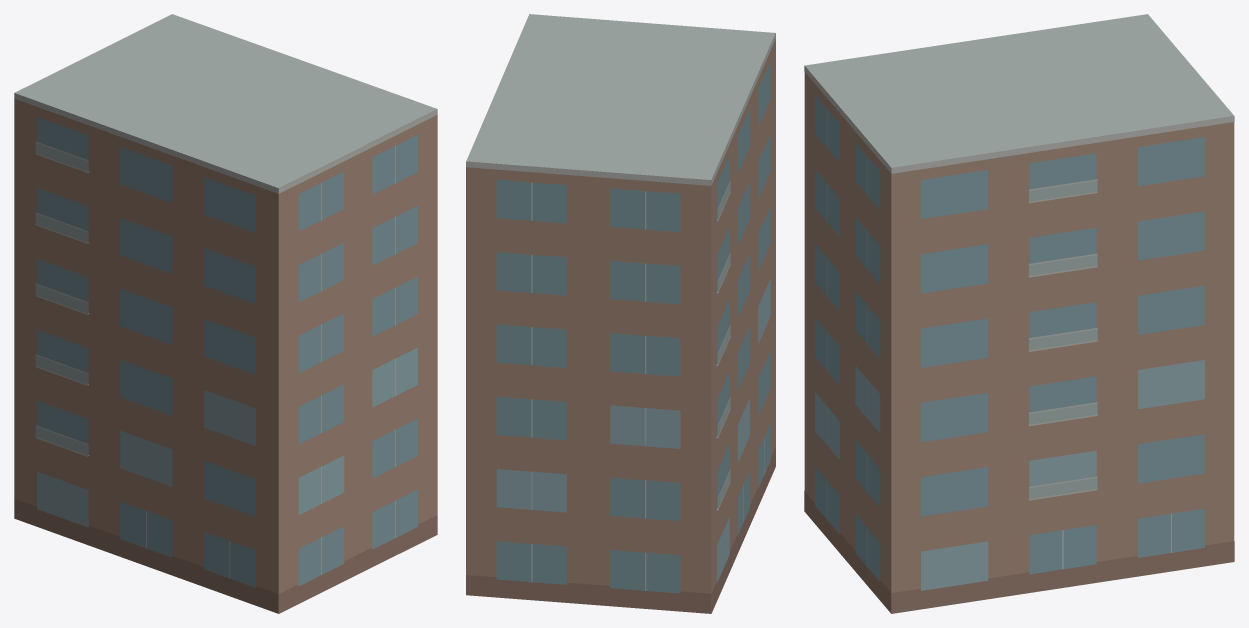
File: survey-upis-32697612.glb
3 renders of one model, left to right at view 1: azimuth 30°, elevation 25°; view 2: azimuth 150°, elevation 25°; view 3: azimuth 270°, elevation 25°, orthographic. The views are drawn at different scales.
Parts seen in each view (by area): view 1: survey-upis-32697612.tmp; view 2: survey-upis-32697612.tmp; view 3: survey-upis-32697612.tmp.
Part boxes in pixels (x1,y1,x2,y2): survey-upis-32697612.tmp: (14,14,437,613); survey-upis-32697612.tmp: (466,14,775,613); survey-upis-32697612.tmp: (804,14,1234,613).
Bounding box in the file's own units: 13.56 × 18.3 × 16.
